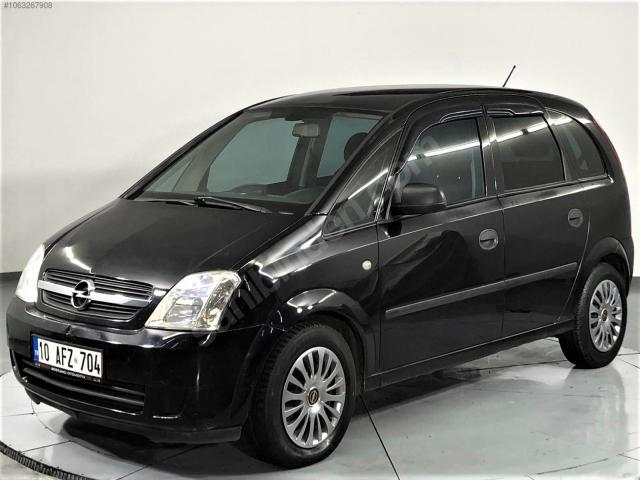plaka: (32, 337, 102, 382)
